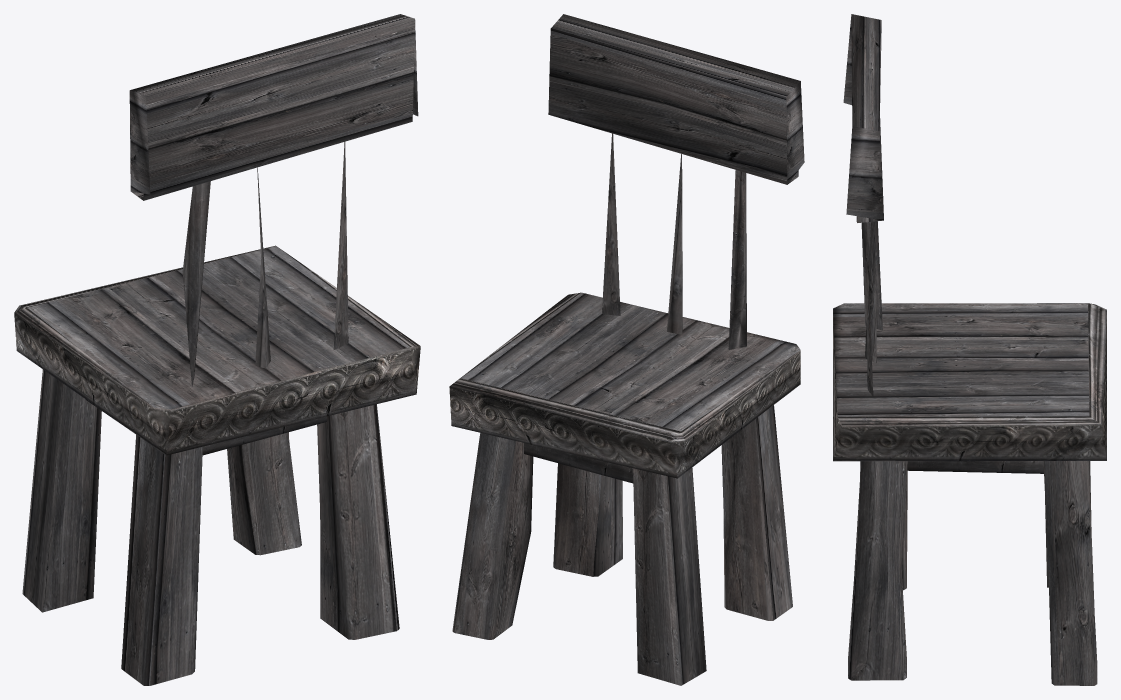
Rendered from tavern_chair3_LOD.fbx.
3 renders of one model, left to right at view 1: azimuth 30°, elevation 25°; view 2: azimuth 150°, elevation 25°; view 3: azimuth 270°, elevation 25°, orthographic. The views are drawn at different scales.
Parts seen in each view (by area): view 1: Default_Layer; view 2: Default_Layer; view 3: Default_Layer.
Boxes of the visible parts, x1,y1,x2,y2 form: Default_Layer: [14, 14, 420, 685]; Default_Layer: [449, 14, 804, 685]; Default_Layer: [833, 14, 1106, 685].
Bounding box in the file's own units: 135 × 290 × 128.
Materials: 1 (1 with a texture image).
